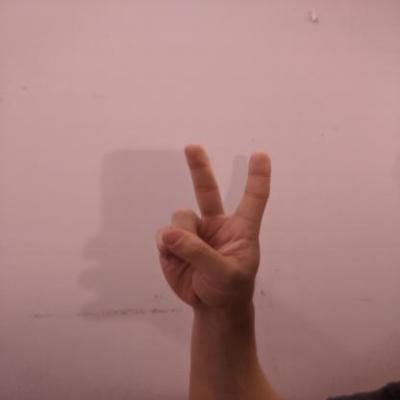hand: (151, 140, 276, 310)
